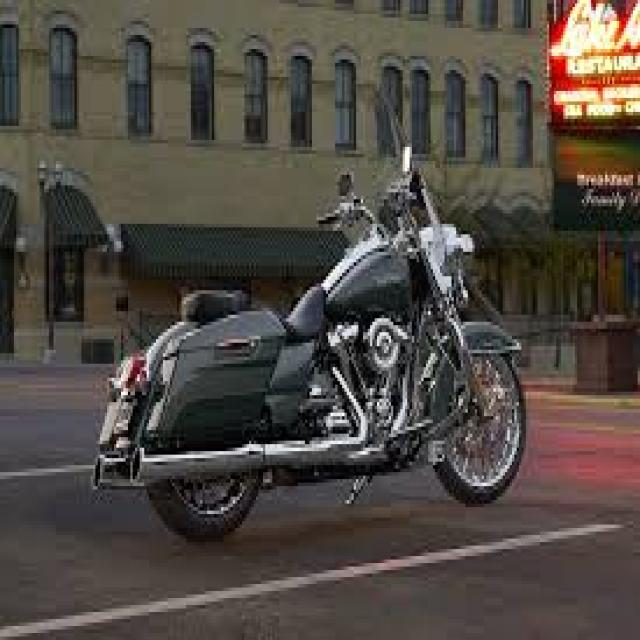MOTORCYCLE: (128, 224, 532, 526)
